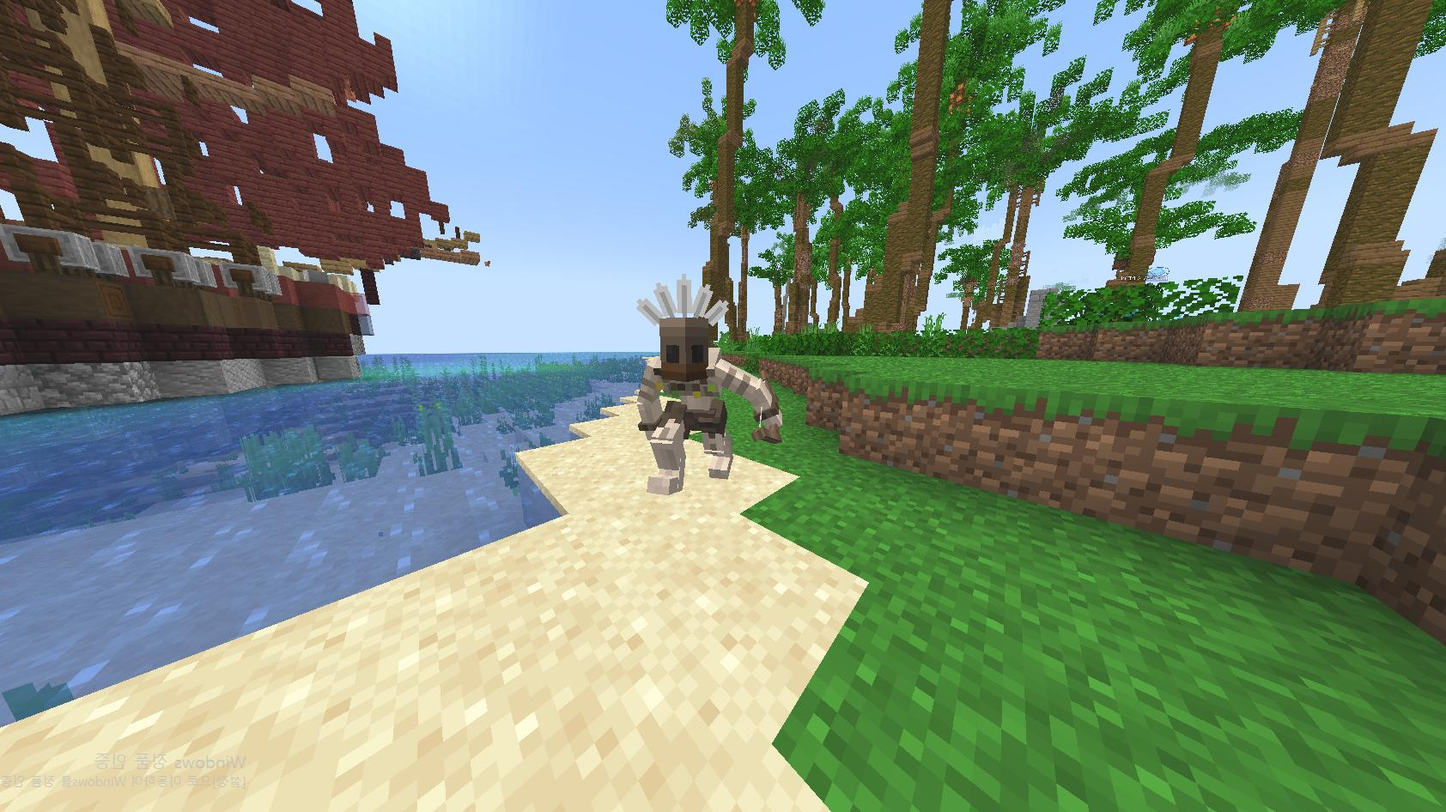bow_indian: (577, 269, 797, 530)
